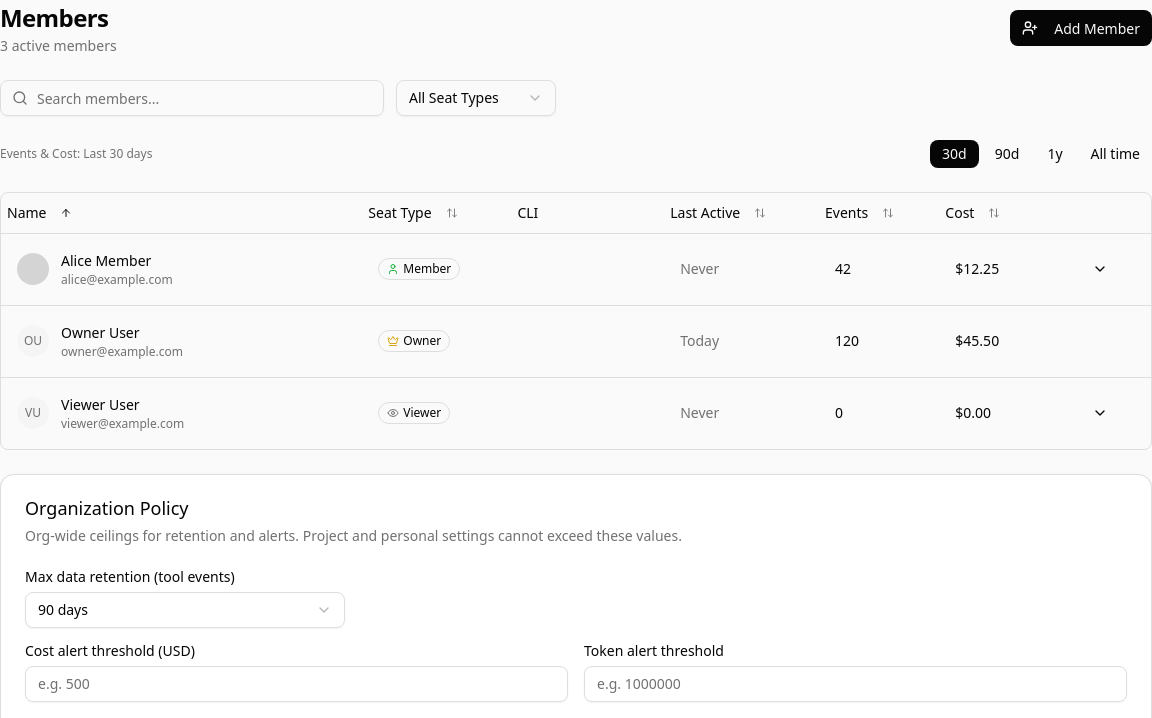
Members › owner access › shows sole-owner project transfer details in the remove confirmation
Click the button without text in the row of "Alice Member".
click(1100, 269)  # box [1084,253,1116,285]
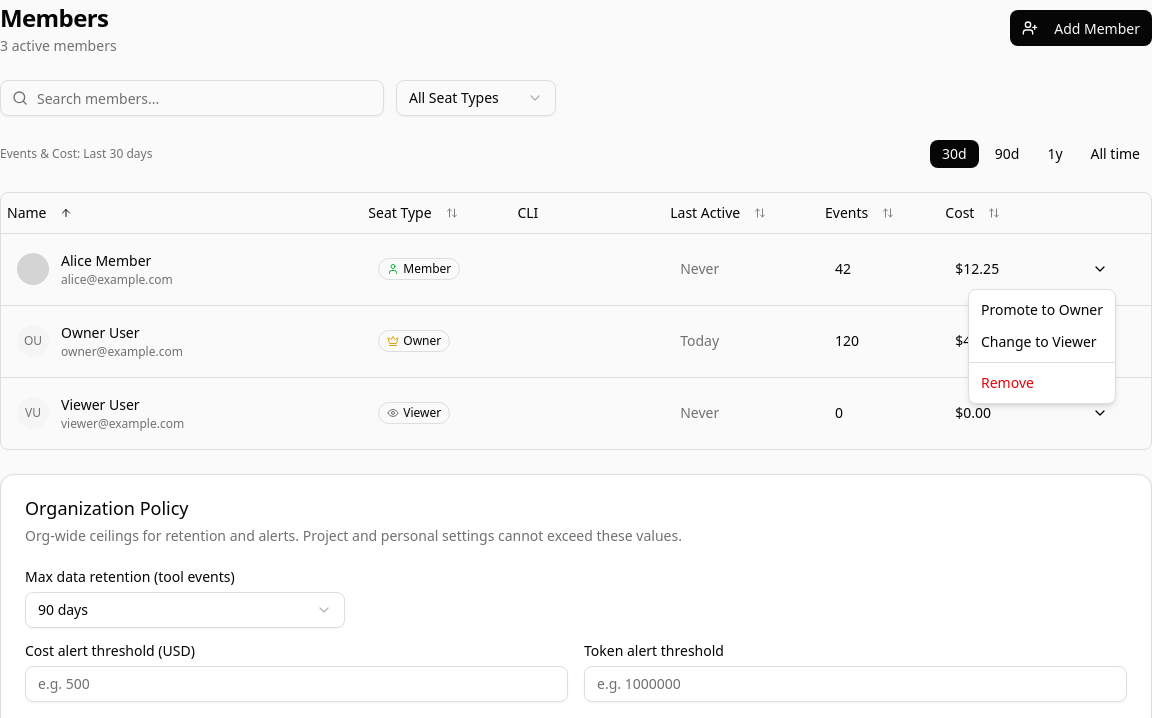
Click the menu item "Remove".
click(1007, 382)  # box [981,373,1034,392]
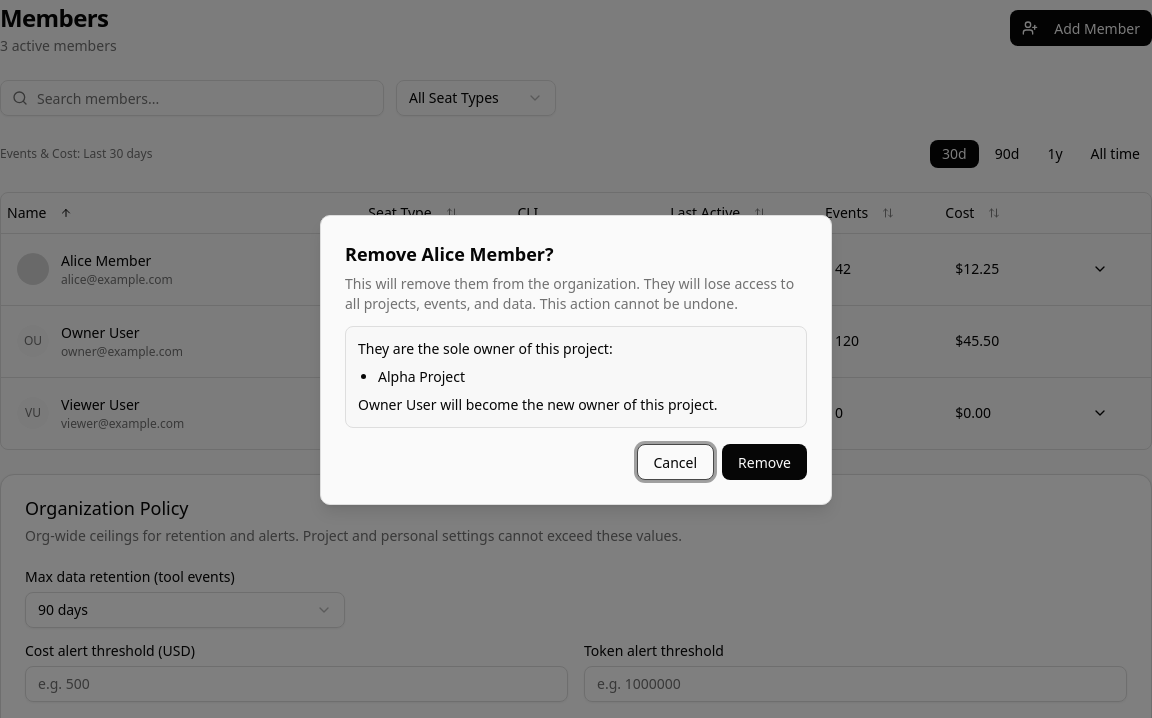
Check: the dialog shows "they are the sole owner of this project", box [358,339,613,358]
Check: the dialog shows "Alpha Project", box [378,367,465,386]
Check: the dialog shows "Owner User will become the new owner of this project", box [320,215,832,505]
